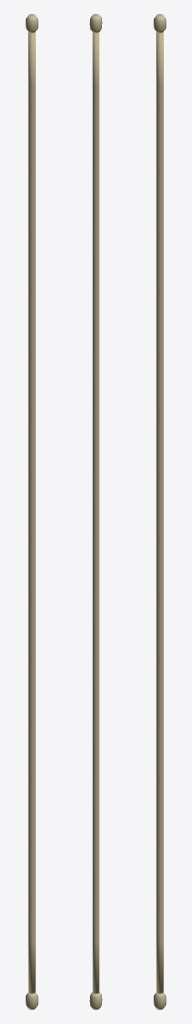
Rendered from VLAB_string.fbx.
3 renders of one model, left to right at view 1: azimuth 90°, elevation 25°; view 2: azimuth 150°, elevation 25°; view 3: azimuth 270°, elevation 25°, orthographic.
Parts seen in each view (by area): view 1: VLAB_string_GuideCurve_VIS, VLAB_string_AnchorTop_VIS, VLAB_string_AnchorBottom_VIS; view 2: VLAB_string_GuideCurve_VIS, VLAB_string_AnchorTop_VIS, VLAB_string_AnchorBottom_VIS; view 3: VLAB_string_GuideCurve_VIS, VLAB_string_AnchorTop_VIS, VLAB_string_AnchorBottom_VIS.
Boxes of the visible parts, x1,y1,x2,y2 form: VLAB_string_GuideCurve_VIS: (28, 32, 35, 993); VLAB_string_AnchorTop_VIS: (25, 14, 38, 33); VLAB_string_AnchorBottom_VIS: (25, 992, 38, 1009); VLAB_string_GuideCurve_VIS: (92, 32, 99, 993); VLAB_string_AnchorTop_VIS: (89, 14, 102, 33); VLAB_string_AnchorBottom_VIS: (89, 992, 102, 1009); VLAB_string_GuideCurve_VIS: (156, 32, 163, 993); VLAB_string_AnchorTop_VIS: (153, 14, 166, 33); VLAB_string_AnchorBottom_VIS: (153, 992, 166, 1009).
Size of the model in its own units: 0.0036 by 0.305 by 0.0036.
